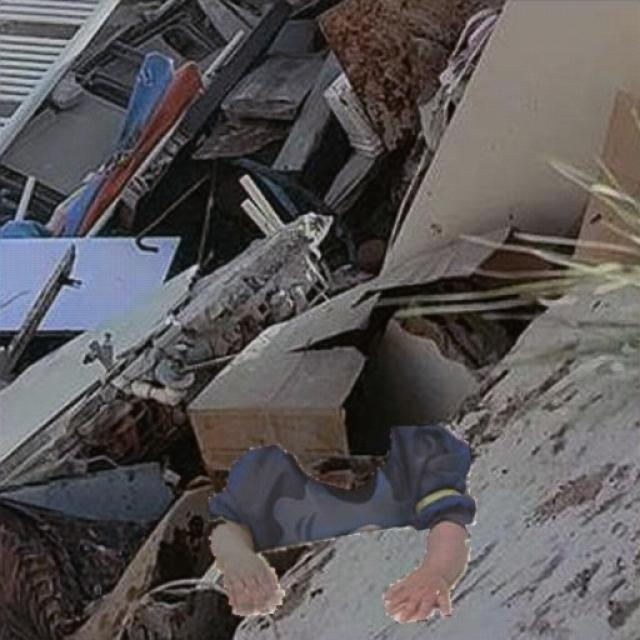Person in Rubble: (208, 426, 476, 624)
